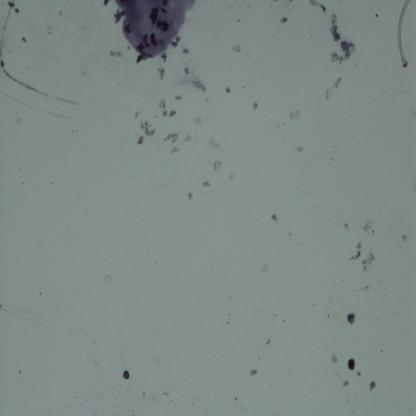Background material: (0, 0, 80, 108), (115, 0, 196, 65), (330, 40, 354, 65), (136, 120, 156, 144), (188, 73, 208, 94), (157, 99, 177, 119), (330, 346, 343, 376), (204, 134, 222, 154), (347, 242, 363, 262), (330, 12, 341, 40), (362, 253, 376, 274), (290, 140, 308, 155), (311, 1, 328, 16), (362, 219, 376, 236), (162, 132, 179, 146), (155, 63, 167, 80), (287, 109, 301, 122), (250, 94, 260, 112), (122, 366, 132, 383), (109, 48, 123, 59), (346, 312, 357, 326), (212, 157, 223, 171), (248, 368, 261, 378), (348, 356, 356, 372), (172, 36, 182, 48), (325, 88, 334, 101), (334, 76, 342, 90), (269, 212, 280, 222), (186, 190, 195, 202), (370, 382, 378, 394), (160, 52, 168, 64), (233, 44, 242, 54), (171, 145, 181, 154), (182, 46, 191, 56), (193, 115, 202, 124), (280, 16, 289, 24), (223, 85, 230, 94), (402, 234, 408, 244), (202, 180, 211, 186), (103, 0, 112, 6), (341, 381, 350, 387), (13, 7, 20, 14), (354, 372, 362, 377), (185, 66, 189, 74)
Glass filter fibre: (350, 285, 370, 293)
Microfibre: (397, 0, 414, 70)
